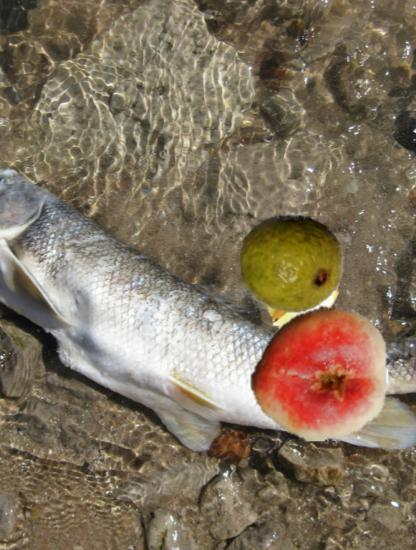Carambula: (260, 256, 341, 337)
Guava: (238, 209, 345, 316)
Peach: (250, 303, 389, 442)
